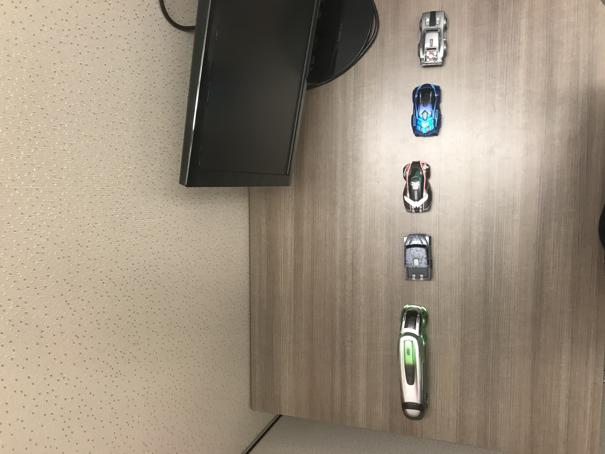Charger: (418, 11, 448, 69)
Freewheel: (398, 305, 431, 420)
MXT: (402, 233, 436, 282)
Shock: (411, 83, 444, 136)
Skull: (402, 161, 434, 213)
